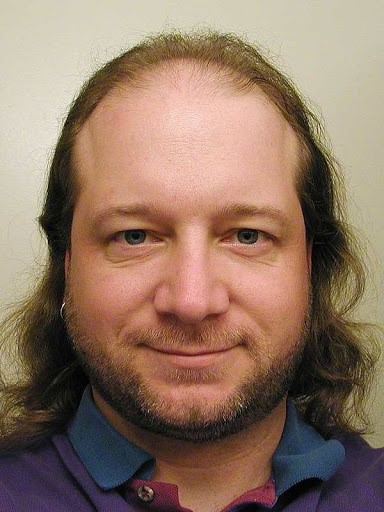face_no_mask: (41, 27, 346, 445)
